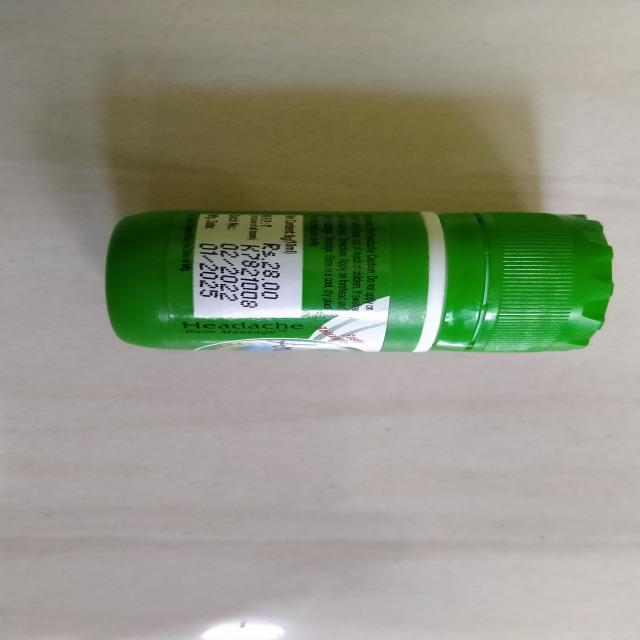eucalyptus oil: (110, 200, 628, 358)
